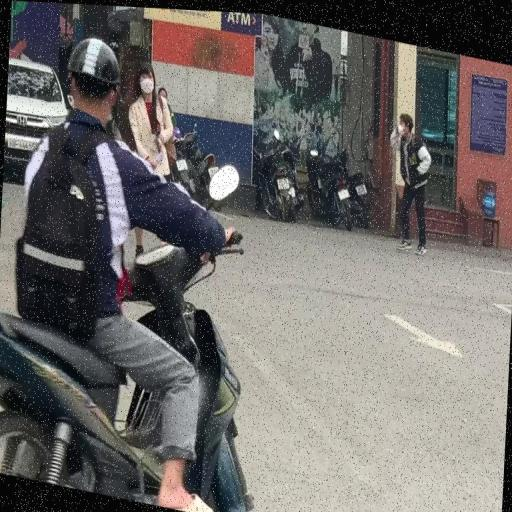bike: (0, 18, 274, 512)
numberplate: (274, 171, 291, 191), (173, 154, 189, 172), (336, 181, 351, 200), (354, 176, 368, 194)
with helmet: (62, 31, 124, 88)
